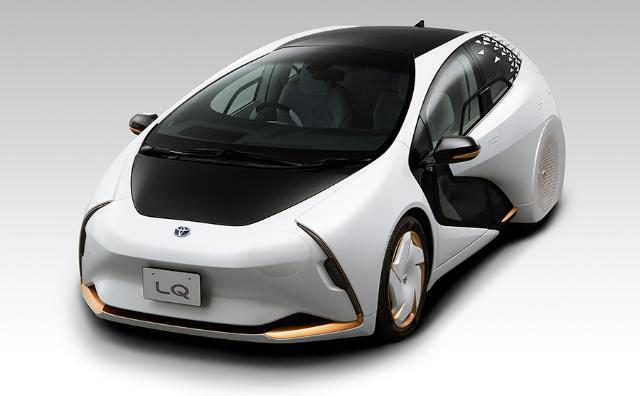toyota: (78, 20, 566, 346)
